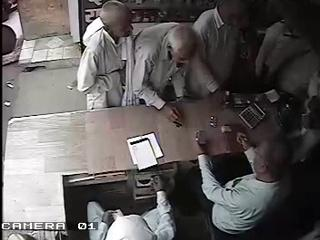Normal: (196, 104, 294, 240), (125, 22, 208, 123), (189, 0, 265, 100), (88, 174, 176, 240)
shoplifting: (76, 1, 134, 110)
